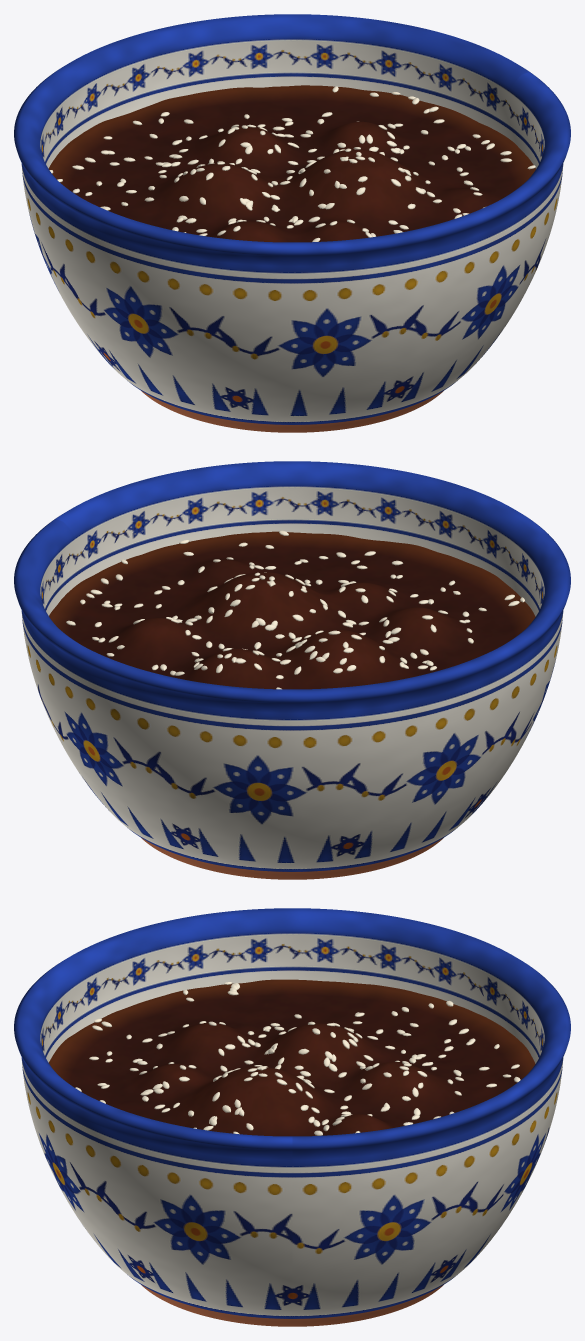
The model's file is bowl_mole_hero.glb.
The picture shows the model from 3 angles, top to bottom: view 1: azimuth 30°, elevation 25°; view 2: azimuth 150°, elevation 25°; view 3: azimuth 270°, elevation 25°; orthographic projection.
Parts seen in each view (by area): view 1: bowl_mole_hero; view 2: bowl_mole_hero; view 3: bowl_mole_hero.
Boxes of the visible parts, x1=… form: bowl_mole_hero: x1=14, y1=14, x2=570, y2=432; bowl_mole_hero: x1=14, y1=461, x2=570, y2=879; bowl_mole_hero: x1=14, y1=908, x2=570, y2=1326.
Size of the model in its own units: 0.16 by 0.0747 by 0.16.
3 materials, 2 textured.
